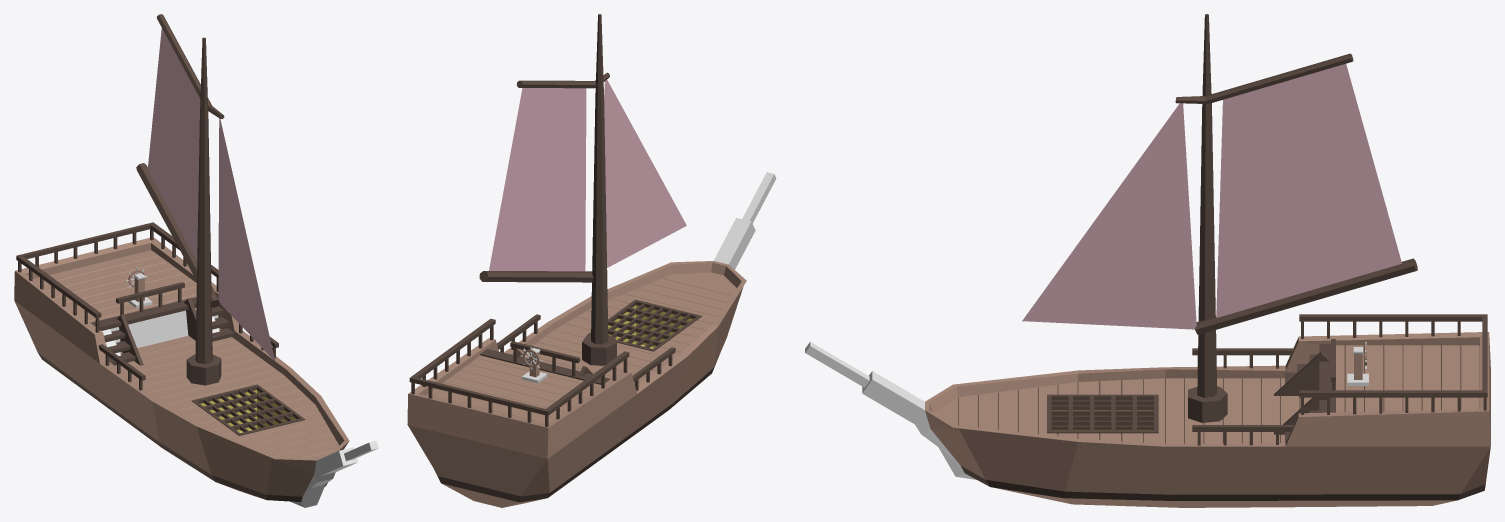
File: Boat.fbx
The picture shows the model from 3 angles, left to right: view 1: azimuth 30°, elevation 25°; view 2: azimuth 150°, elevation 25°; view 3: azimuth 270°, elevation 25°; orthographic projection. The views are drawn at different scales.
Parts seen in each view (by area): view 1: Medium Boat Sails, Sail, Sail Beam; view 2: Medium Boat Sails, Sail, Sail Beam; view 3: Medium Boat Sails, Sail, Sail Beam.
Boxes of the visible parts, left/top/right/bottom form: Medium Boat Sails: left=14, top=222, right=378, bottom=507; Sail: left=136, top=14, right=275, bottom=361; Sail Beam: left=186, top=37, right=221, bottom=385; Medium Boat Sails: left=407, top=172, right=776, bottom=507; Sail: left=479, top=72, right=686, bottom=282; Sail Beam: left=582, top=14, right=616, bottom=365; Medium Boat Sails: left=805, top=314, right=1490, bottom=507; Sail: left=1022, top=53, right=1417, bottom=334; Sail Beam: left=1188, top=14, right=1227, bottom=423.
Size of the model in its own units: 367 by 1018 by 1313.
